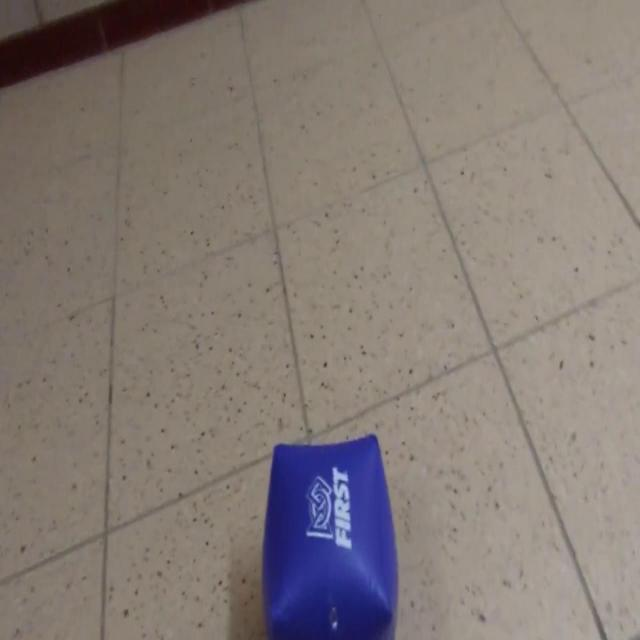frc_cube: (251, 426, 399, 640)
